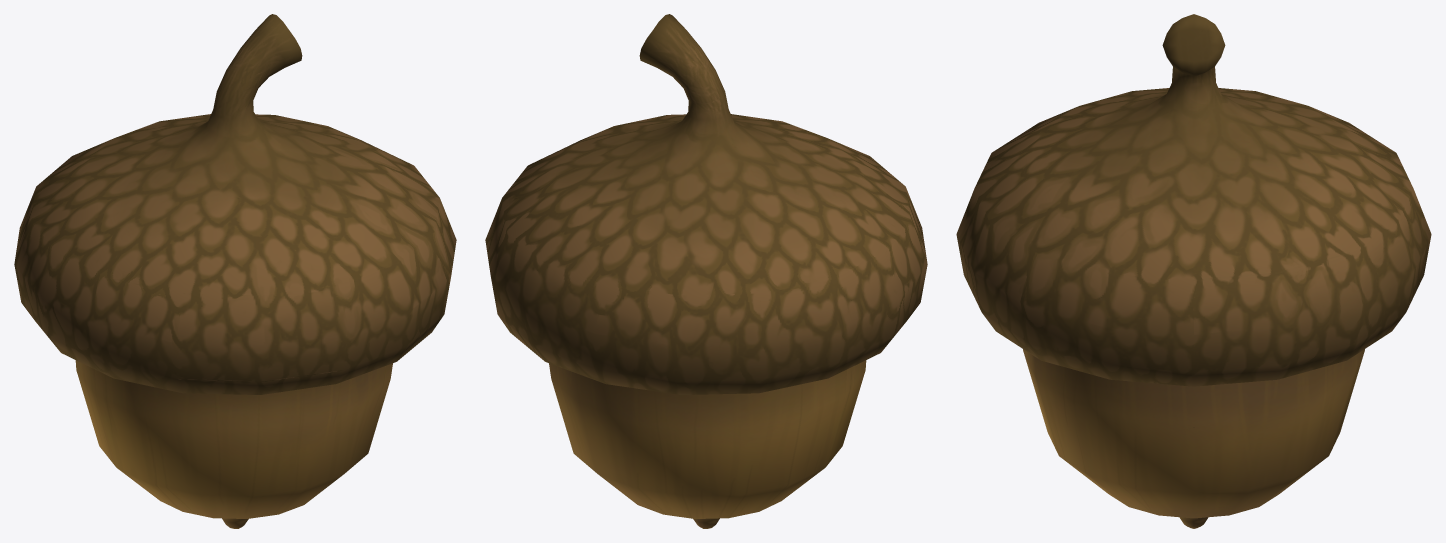
Rendered from Noz.fbx.
3 renders of one model, left to right at view 1: azimuth 30°, elevation 25°; view 2: azimuth 150°, elevation 25°; view 3: azimuth 270°, elevation 25°, orthographic. The views are drawn at different scales.
Parts seen in each view (by area): view 1: Nuts; view 2: Nuts; view 3: Nuts.
Boxes of the visible parts, box(x1,y1,x2,y2) form: Nuts: box(14, 14, 456, 528); Nuts: box(485, 14, 927, 528); Nuts: box(956, 14, 1431, 528).
Size of the model in its own units: 24.49 by 30.39 by 24.49.
